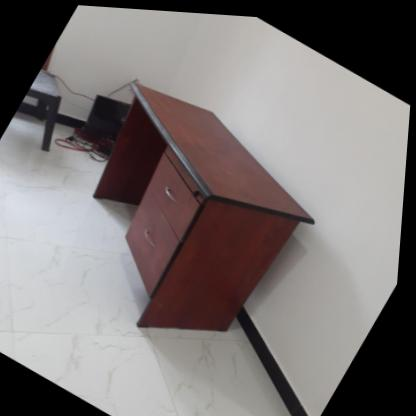Table: (13, 49, 364, 396)
